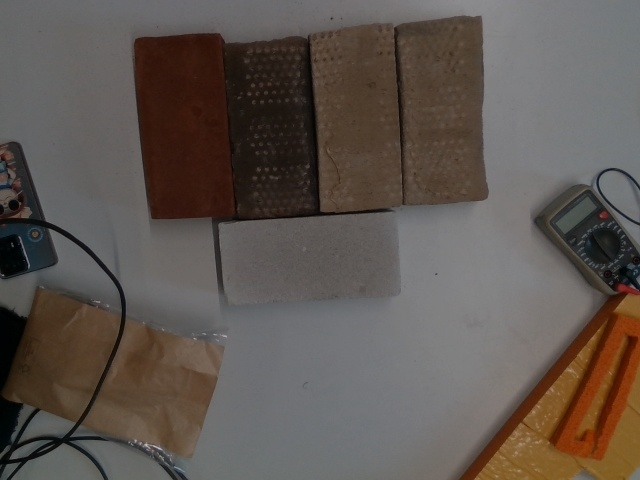brick: (217, 211, 402, 305), (225, 36, 316, 219), (400, 20, 487, 210), (314, 25, 401, 215), (139, 34, 229, 217)
